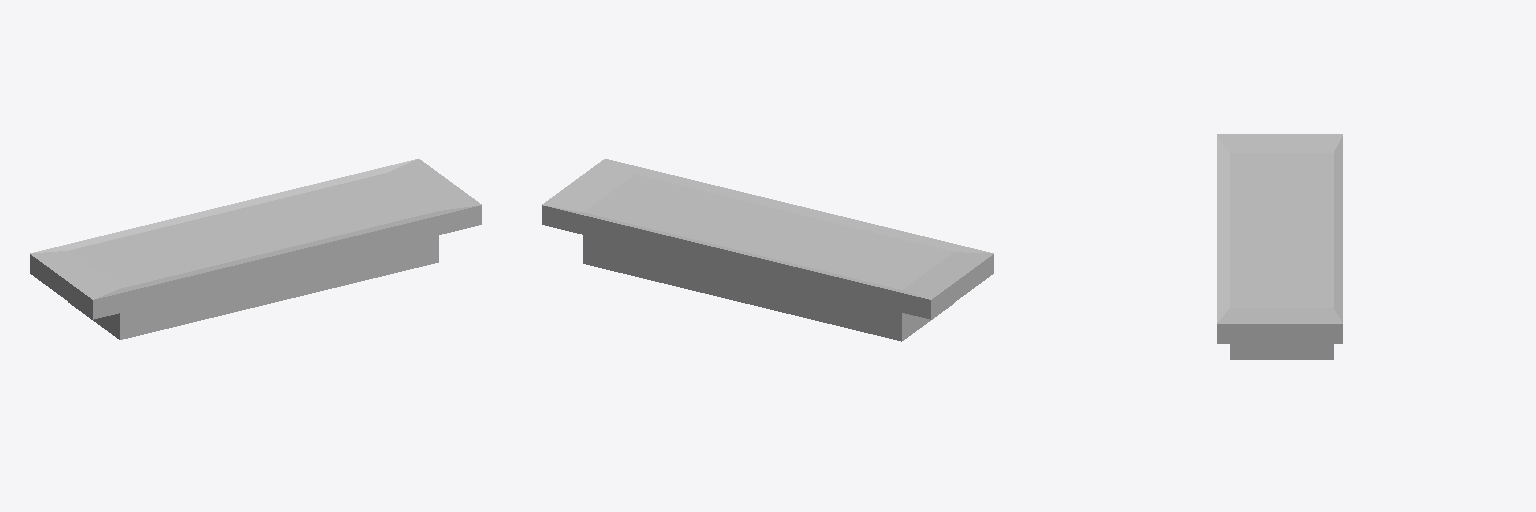
The model's file is Platform14.obj.
The picture shows the model from 3 angles: view 1: azimuth 30°, elevation 25°; view 2: azimuth 150°, elevation 25°; view 3: azimuth 270°, elevation 25°; orthographic projection.
Parts seen in each view (by area): view 1: pCube29; view 2: pCube29; view 3: pCube29.
Part boxes in pixels (x1,y1,x2,y2): pCube29: (30, 159, 481, 339); pCube29: (542, 159, 993, 341); pCube29: (1217, 134, 1342, 359).
Size of the model in its own units: 15.73 by 2.06 by 4.44.